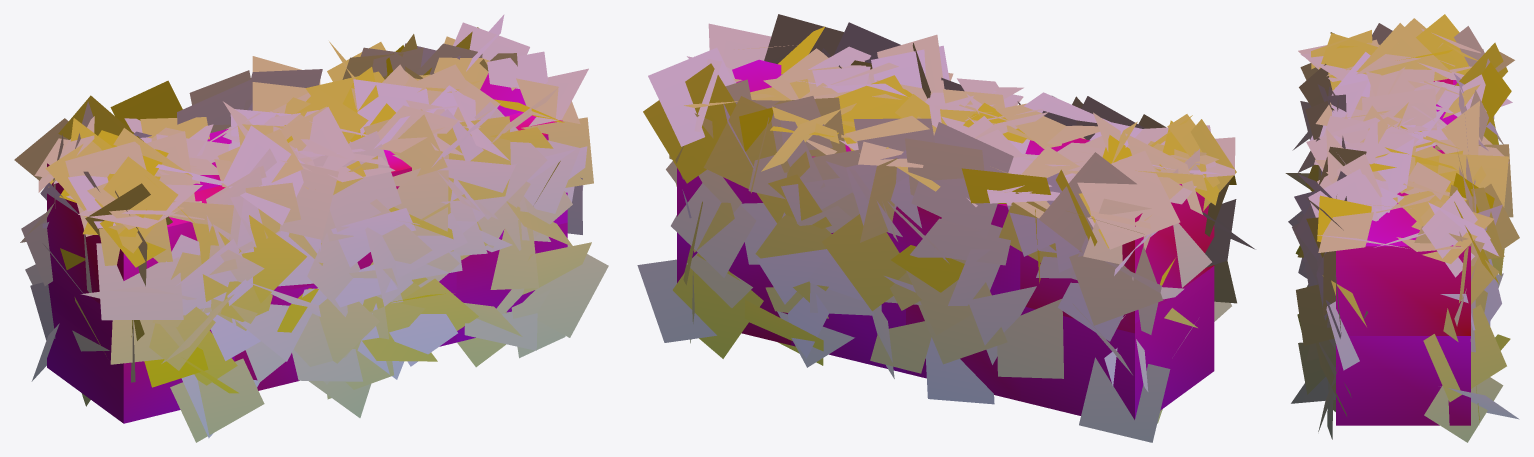
File: hedge_privet.glb
3 renders of one model, left to right at view 1: azimuth 30°, elevation 25°; view 2: azimuth 150°, elevation 25°; view 3: azimuth 270°, elevation 25°, orthographic. The views are drawn at different scales.
Parts seen in each view (by area): view 1: hedge_privet; view 2: hedge_privet; view 3: hedge_privet.
Part boxes in pixels (box(x1,y1,x2,y2)): hedge_privet: box(14, 14, 608, 442); hedge_privet: box(637, 14, 1255, 442); hedge_privet: box(1285, 14, 1519, 442).
Size of the model in its own units: 2.31 by 1.31 by 1.04.
